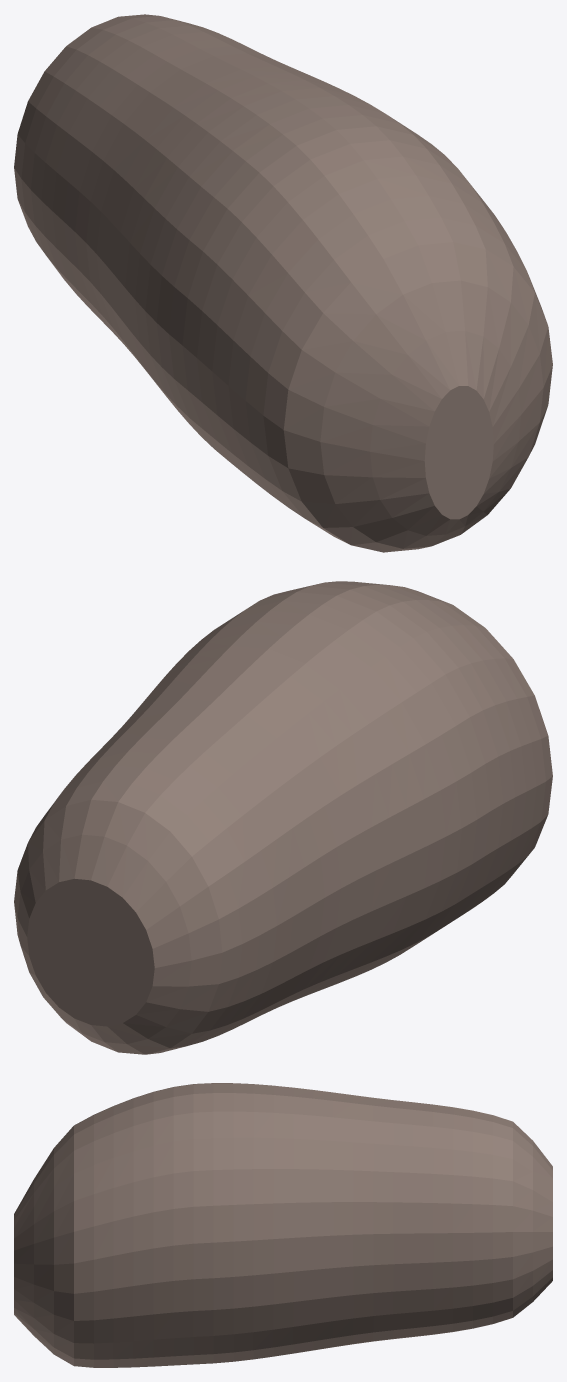
Rendered from rat_body_original_01.glb.
3 views of the same model, one above another, from view 1: azimuth 30°, elevation 25°; view 2: azimuth 150°, elevation 25°; view 3: azimuth 270°, elevation 25° (orthographic). The views are drawn at different scales.
Parts seen in each view (by area): view 1: Torso; view 2: Torso; view 3: Torso.
Boxes of the visible parts, bbox=[...] form: Torso: bbox=[14, 14, 552, 552]; Torso: bbox=[14, 581, 552, 1054]; Torso: bbox=[14, 1083, 552, 1367].
Bounding box in the file's own units: 0.5797 × 0.6516 × 1.2.
